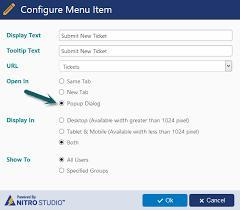button: (190, 195, 236, 208), (144, 195, 188, 208)
dropdown: (61, 62, 233, 73)
input: (61, 30, 234, 42), (61, 47, 234, 58)
label: (67, 128, 201, 137), (68, 118, 192, 126), (6, 46, 42, 55), (68, 169, 111, 176), (6, 31, 45, 38), (67, 101, 103, 108), (7, 156, 34, 165), (5, 78, 32, 86), (6, 118, 36, 125), (67, 79, 94, 85), (4, 63, 23, 71), (67, 158, 90, 164), (68, 90, 90, 96), (67, 141, 81, 146)
radio: (59, 78, 66, 86), (59, 89, 66, 97), (59, 128, 66, 136), (59, 100, 65, 109), (59, 140, 66, 147), (59, 157, 65, 164), (59, 169, 66, 175), (60, 118, 65, 125)
